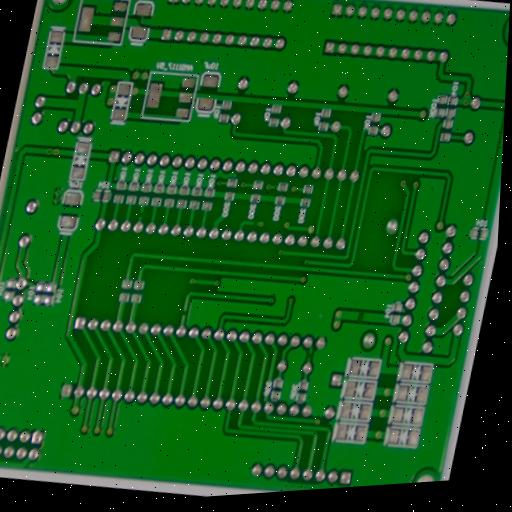open_circuit: (352, 309, 368, 325), (249, 217, 260, 230), (136, 209, 145, 220), (305, 350, 313, 362), (180, 308, 189, 318)
